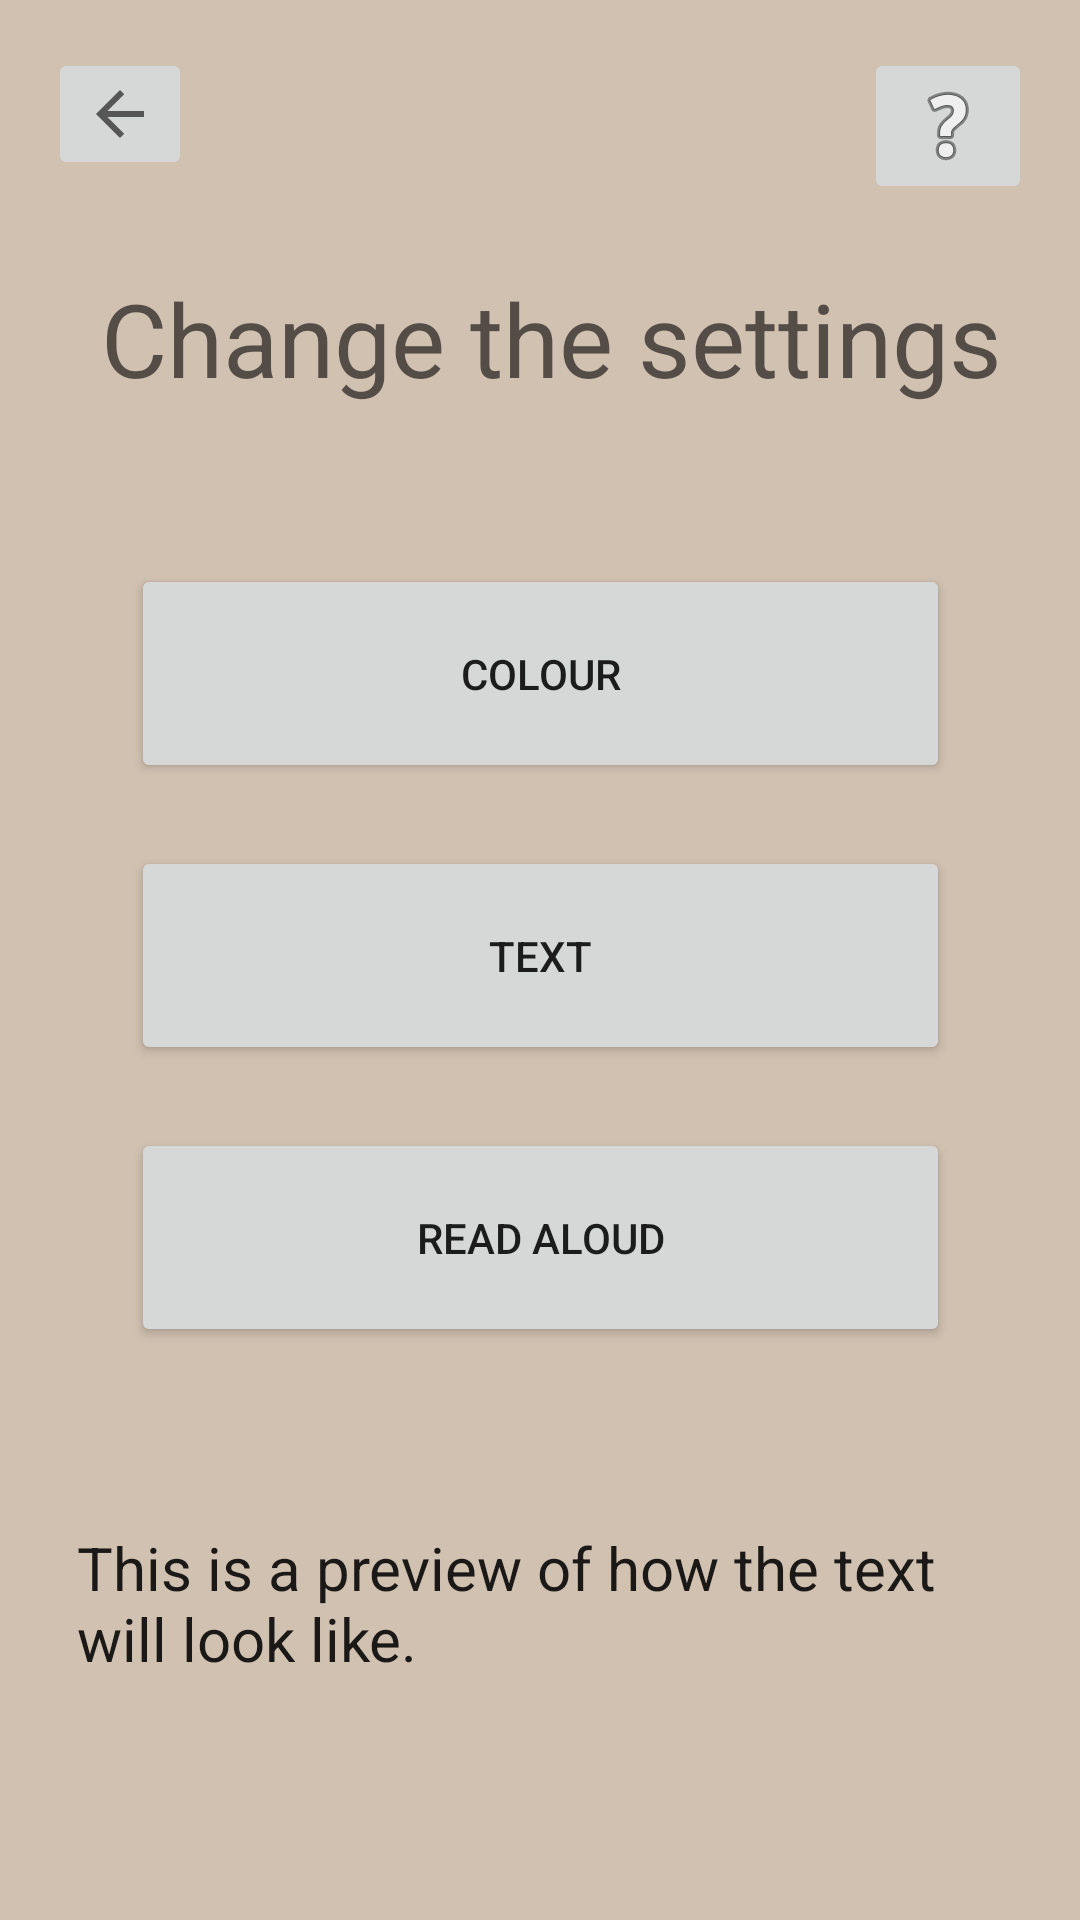

Screen size 1080px×1920px. Icon name, then its box in pixels as [x1=x1, y1=y1, x2=x2, y2=y2]:
help: [x1=876, y1=66, x2=1020, y2=186]
